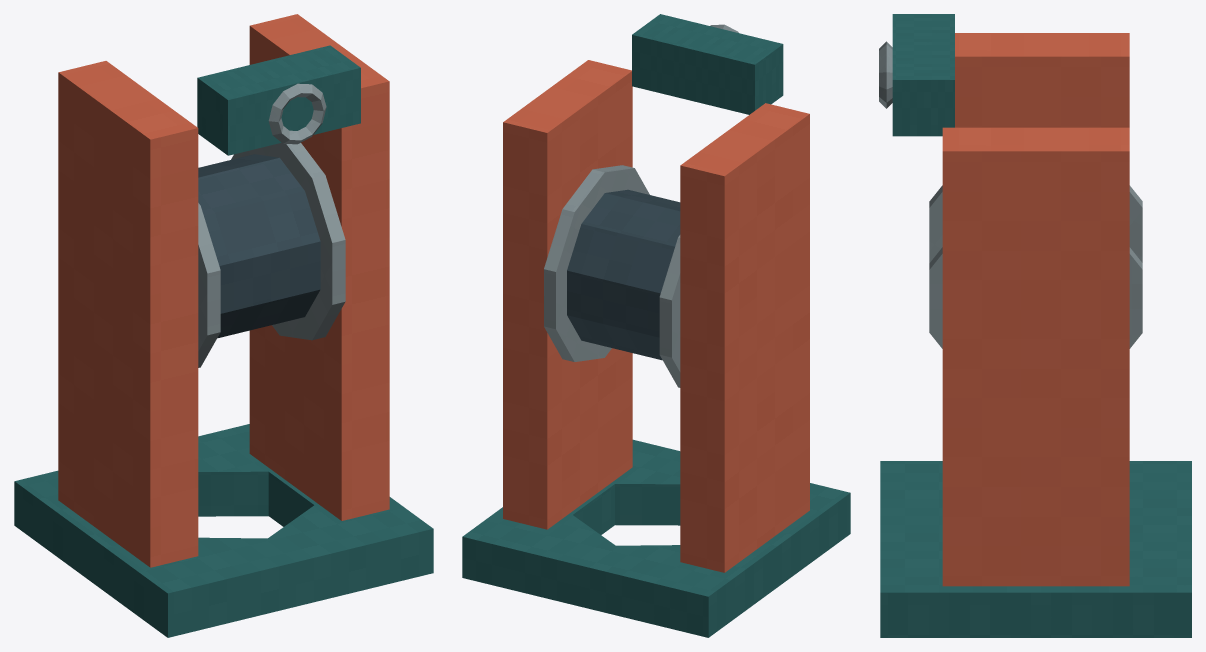
The model's file is winch-lod-2.glb.
3 views of the same model, side by side, from view 1: azimuth 30°, elevation 25°; view 2: azimuth 150°, elevation 25°; view 3: azimuth 270°, elevation 25° (orthographic). The views are drawn at different scales.
Parts seen in each view (by area): view 1: winch_lod_2; view 2: winch_lod_2; view 3: winch_lod_2.
Part boxes in pixels (box(x1,y1,x2,y2)): winch_lod_2: box(14, 14, 433, 637); winch_lod_2: box(462, 14, 850, 637); winch_lod_2: box(879, 14, 1191, 637).
Bounding box in the file's own units: 1 × 1.87 × 1.
Materials: 1 (1 with a texture image).
